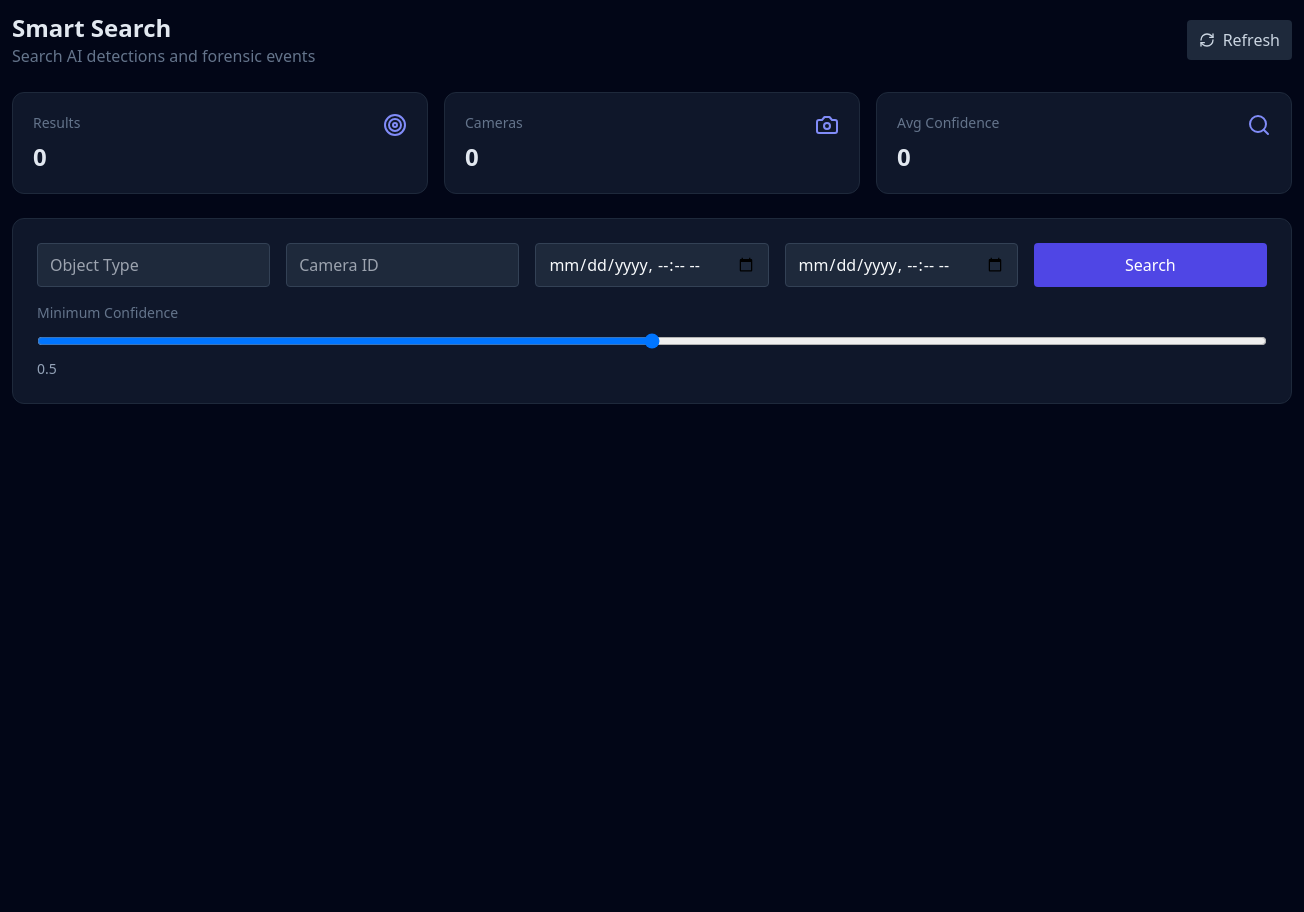
Scenario: SearchPage › shows empty results message when no results found
Click the button "Search" at (1150, 265), box 1034,243 -> 1267,287
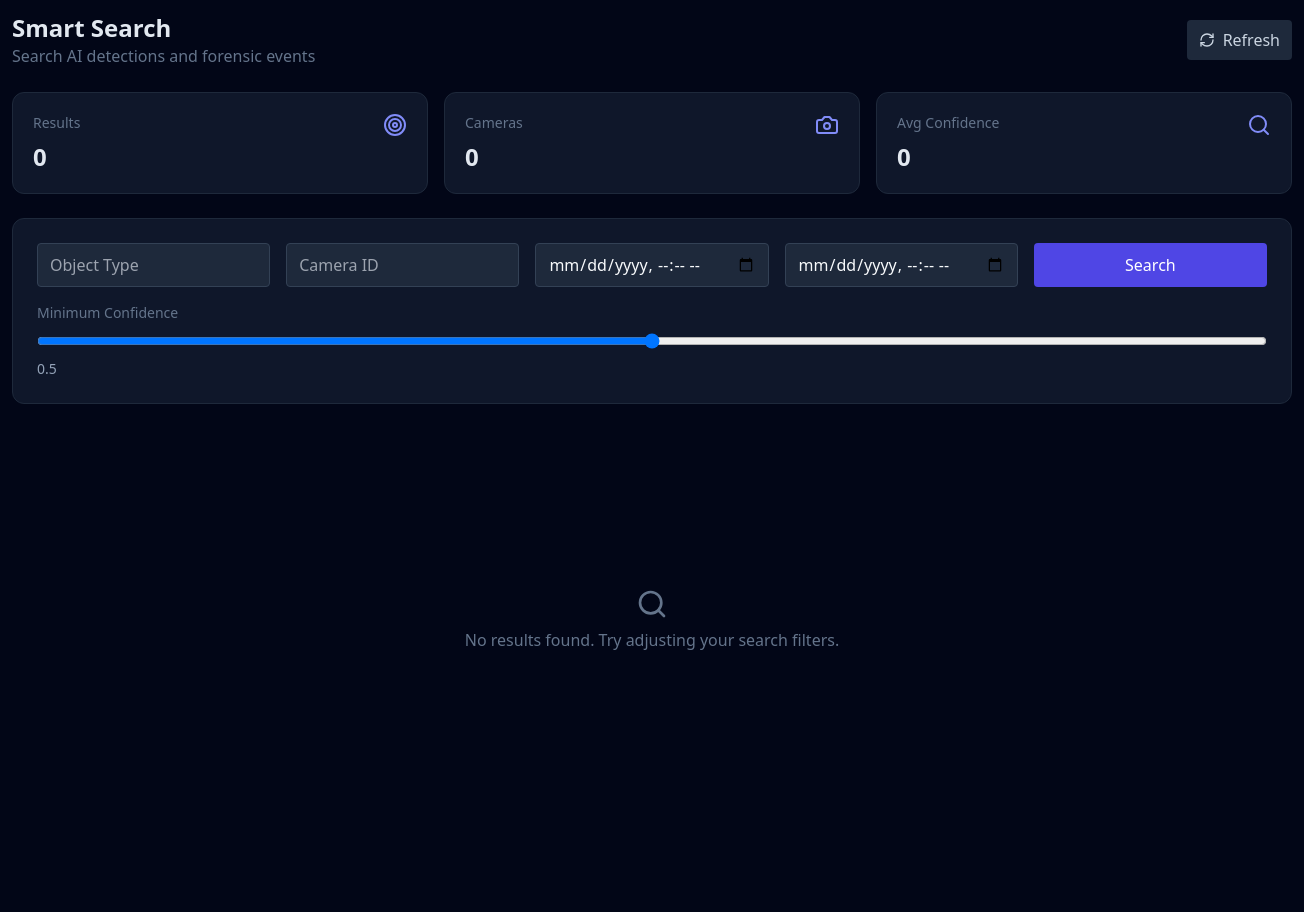
Check: the text "No results found. Try adjusting your search filters." is shown, box 465,628 -> 839,652
